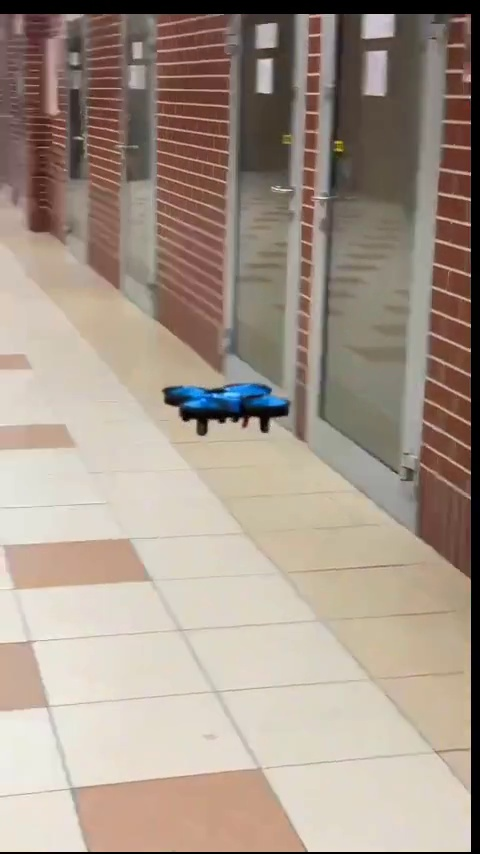drone: (162, 380, 295, 437)
